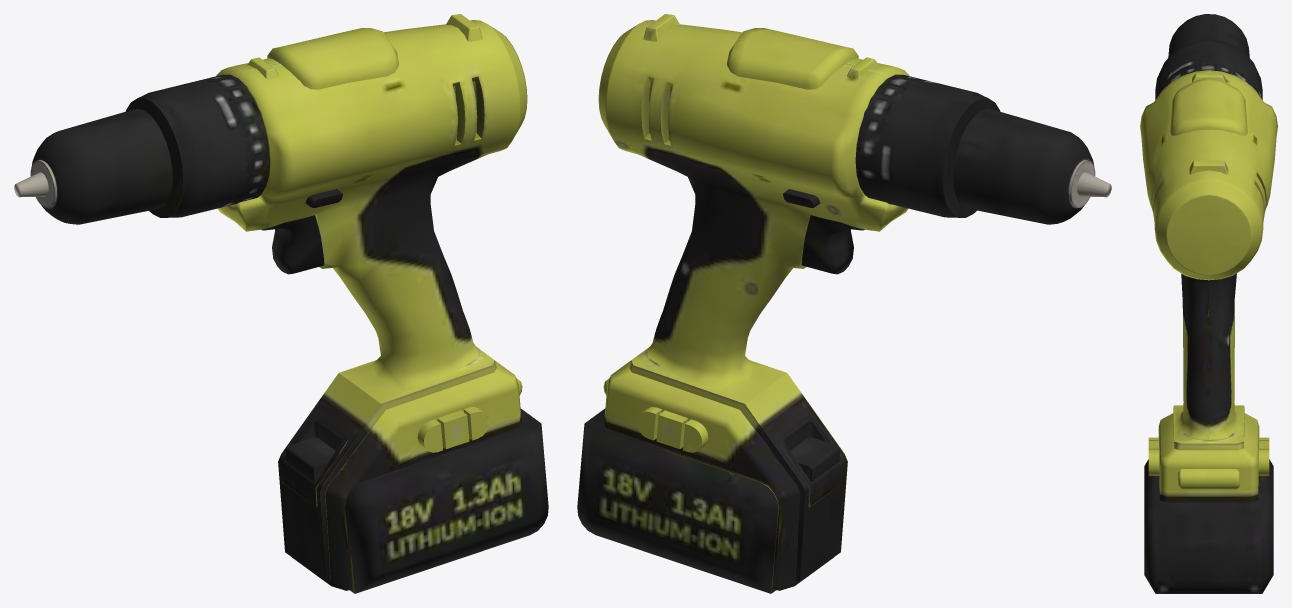
File: drill.glb
The picture shows the model from 3 angles, left to right: view 1: azimuth 30°, elevation 25°; view 2: azimuth 150°, elevation 25°; view 3: azimuth 270°, elevation 25°; orthographic projection. The views are drawn at different scales.
Parts seen in each view (by area): view 1: Drill_01; view 2: Drill_01; view 3: Drill_01.
Boxes of the visible parts, x1,y1,x2,y2 form: Drill_01: (14, 14, 548, 593); Drill_01: (577, 14, 1111, 593); Drill_01: (1140, 14, 1277, 593).
Bounding box in the file's own units: 0.1829 × 0.1851 × 0.0524.
Materials: 1 (1 with a texture image).
